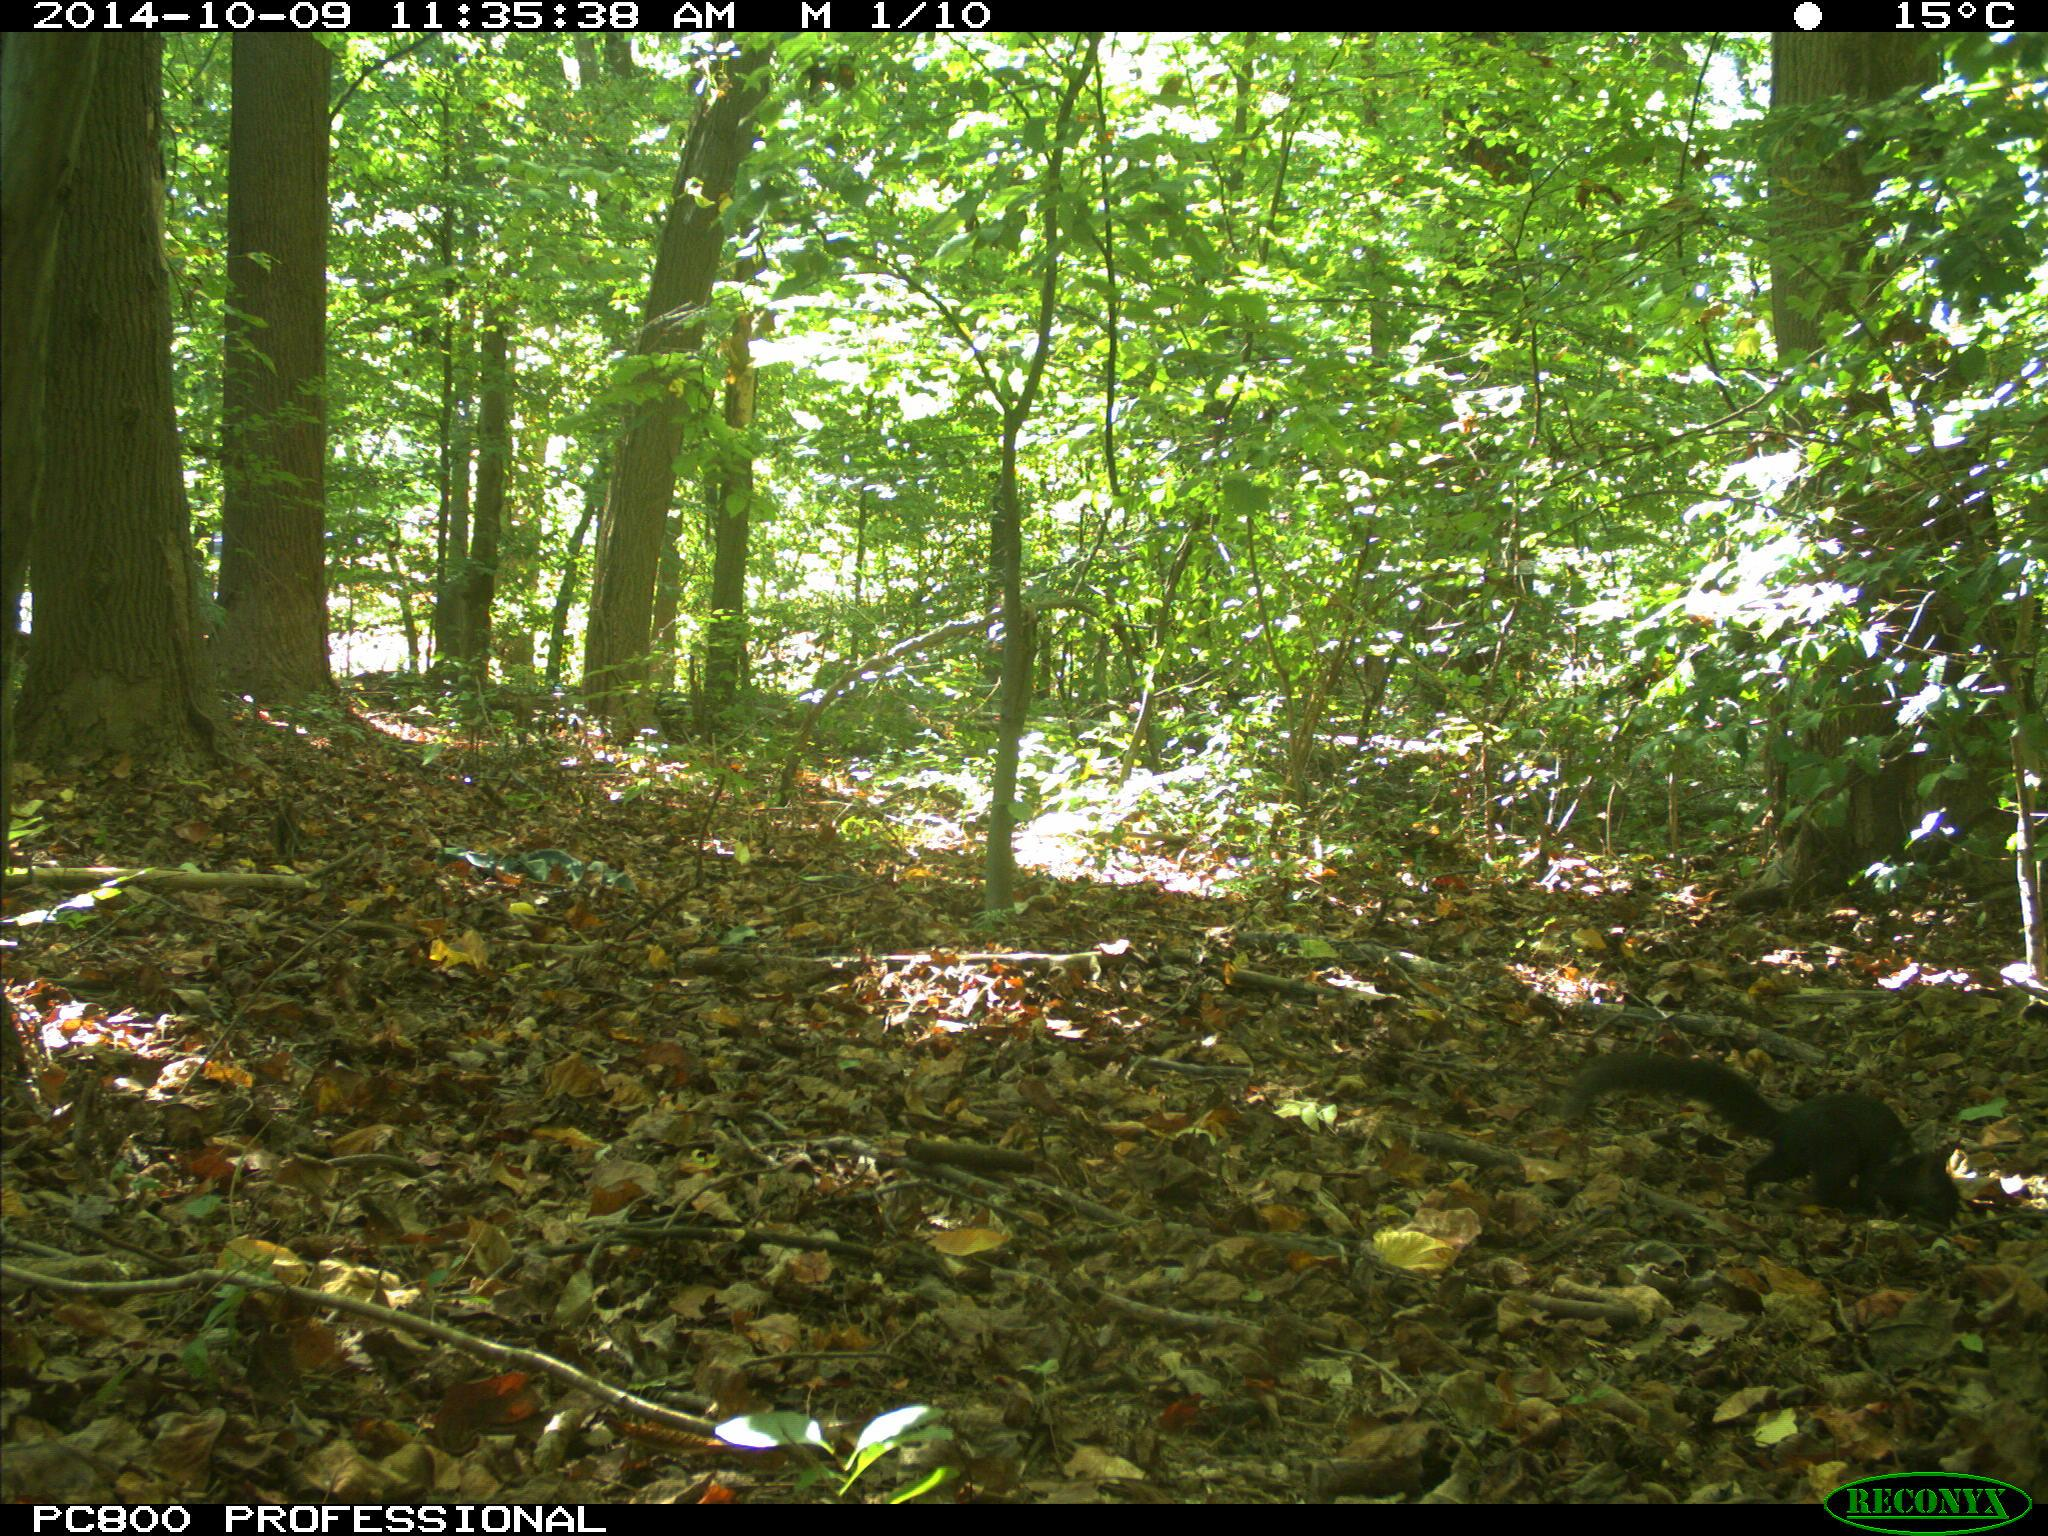Animal: (1579, 1055, 1956, 1220)
